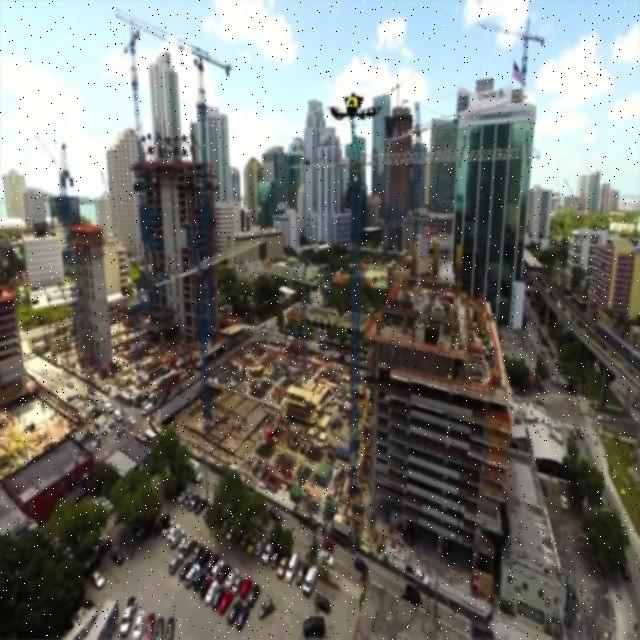UAV: (326, 92, 386, 120)
